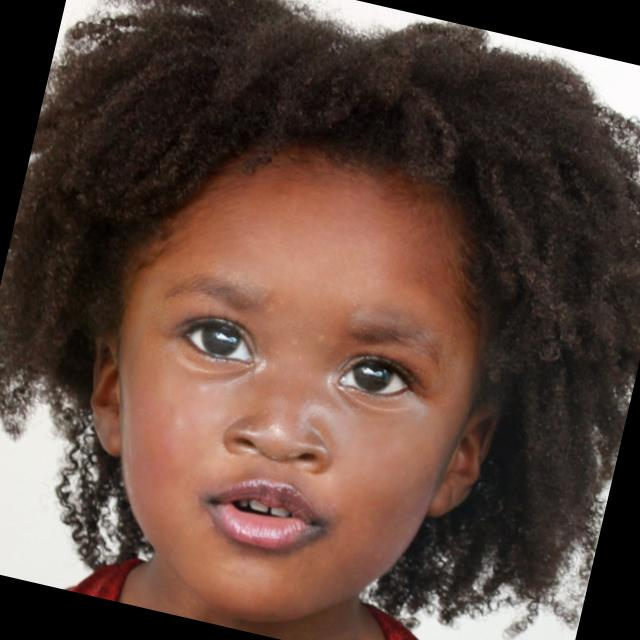face: (29, 74, 562, 640)
